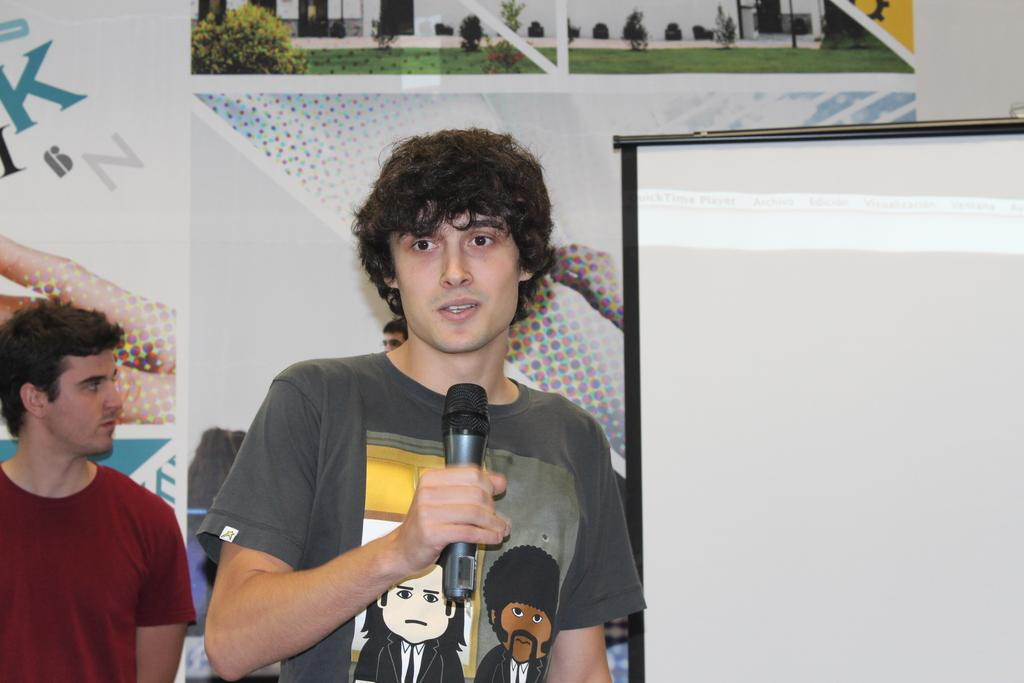Sem Máscara: (390, 198, 516, 345), (39, 346, 118, 453), (385, 565, 451, 645), (497, 596, 552, 661)
